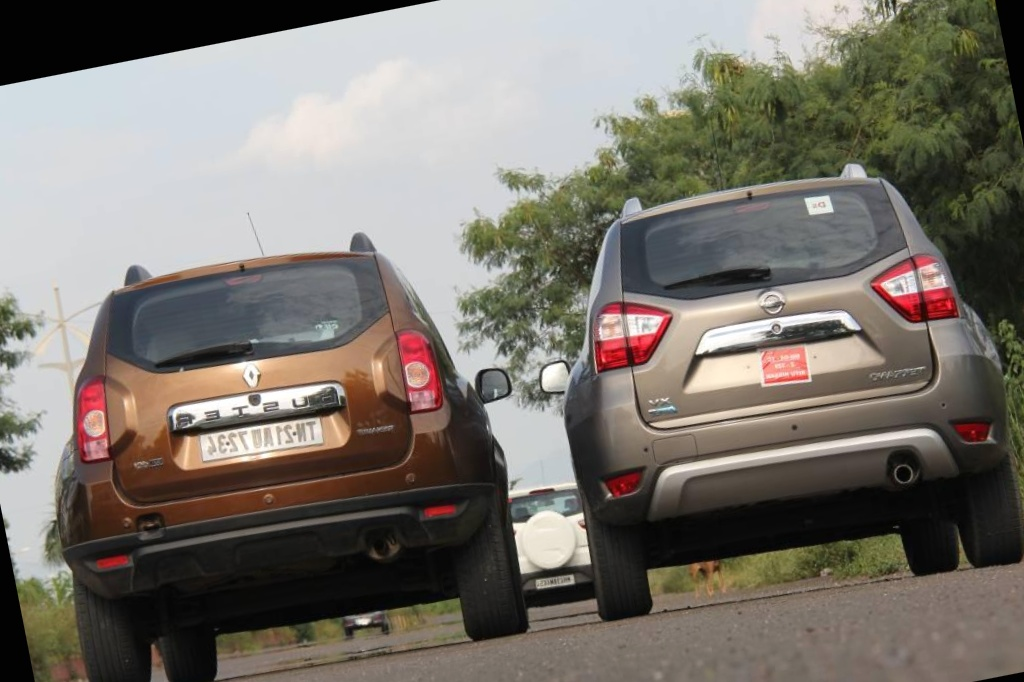car: (491, 70, 1024, 672), (0, 166, 541, 682)
